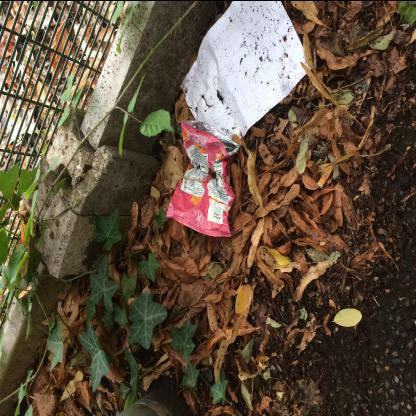kagit: (182, 2, 314, 146)
plastik: (167, 119, 242, 240)
